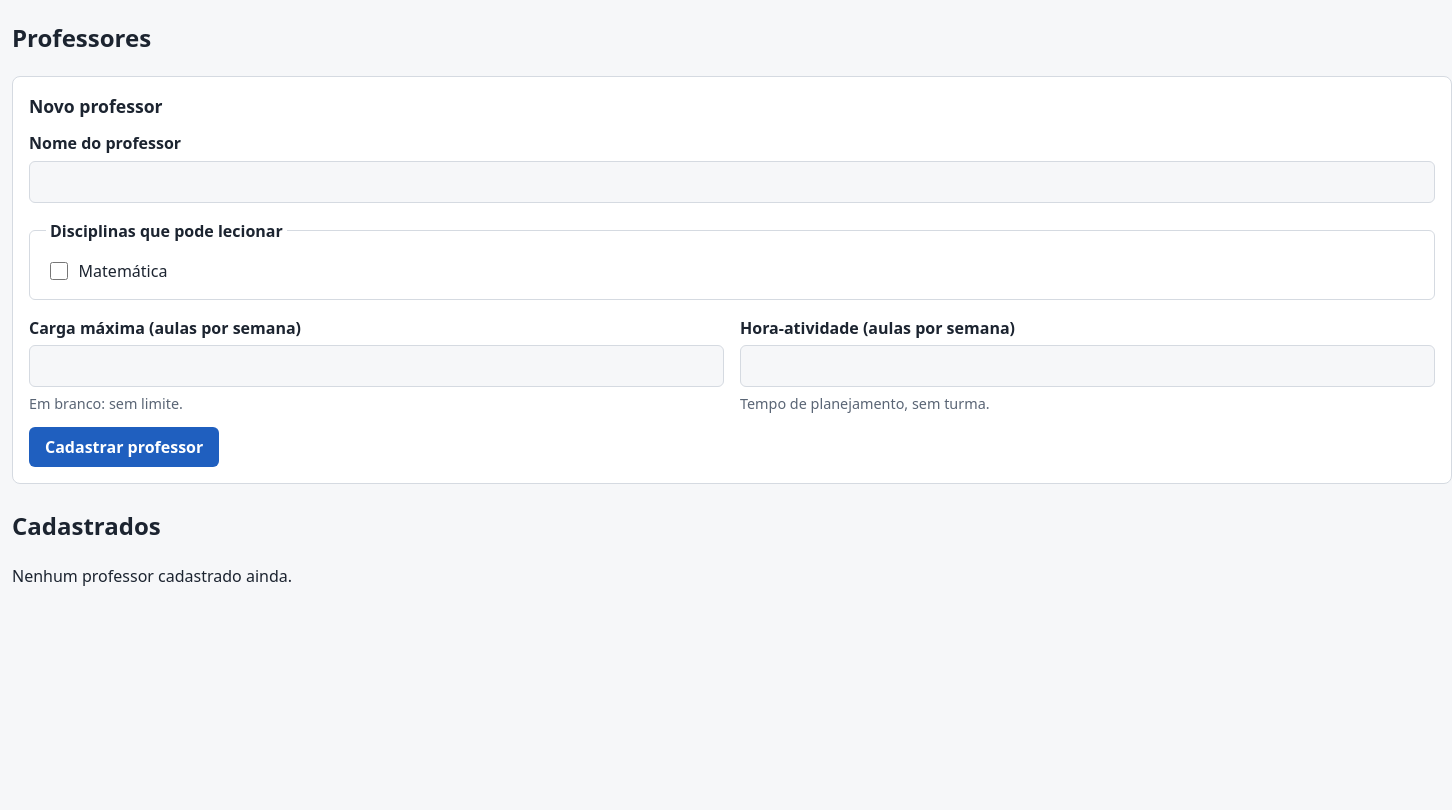
Test case: TeachersPage › mantém o que foi preenchido quando a API recusa
The image size is (1452, 810).
In the field with id "teacher-name": [732, 182] box [29,161,1435,203], type "Ana"
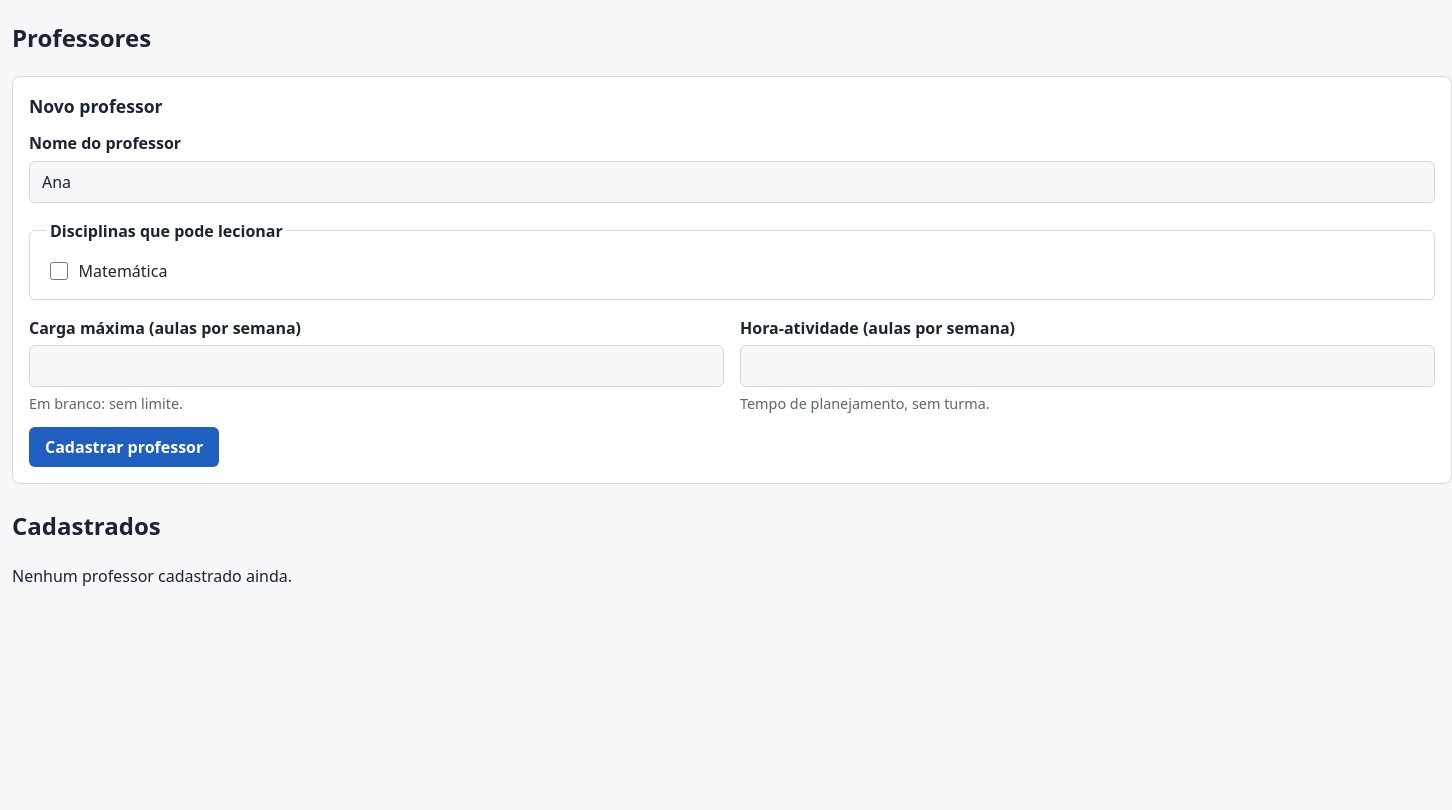
Click the checkbox labelled "Matemática": [59, 271] box [50,262,68,280]
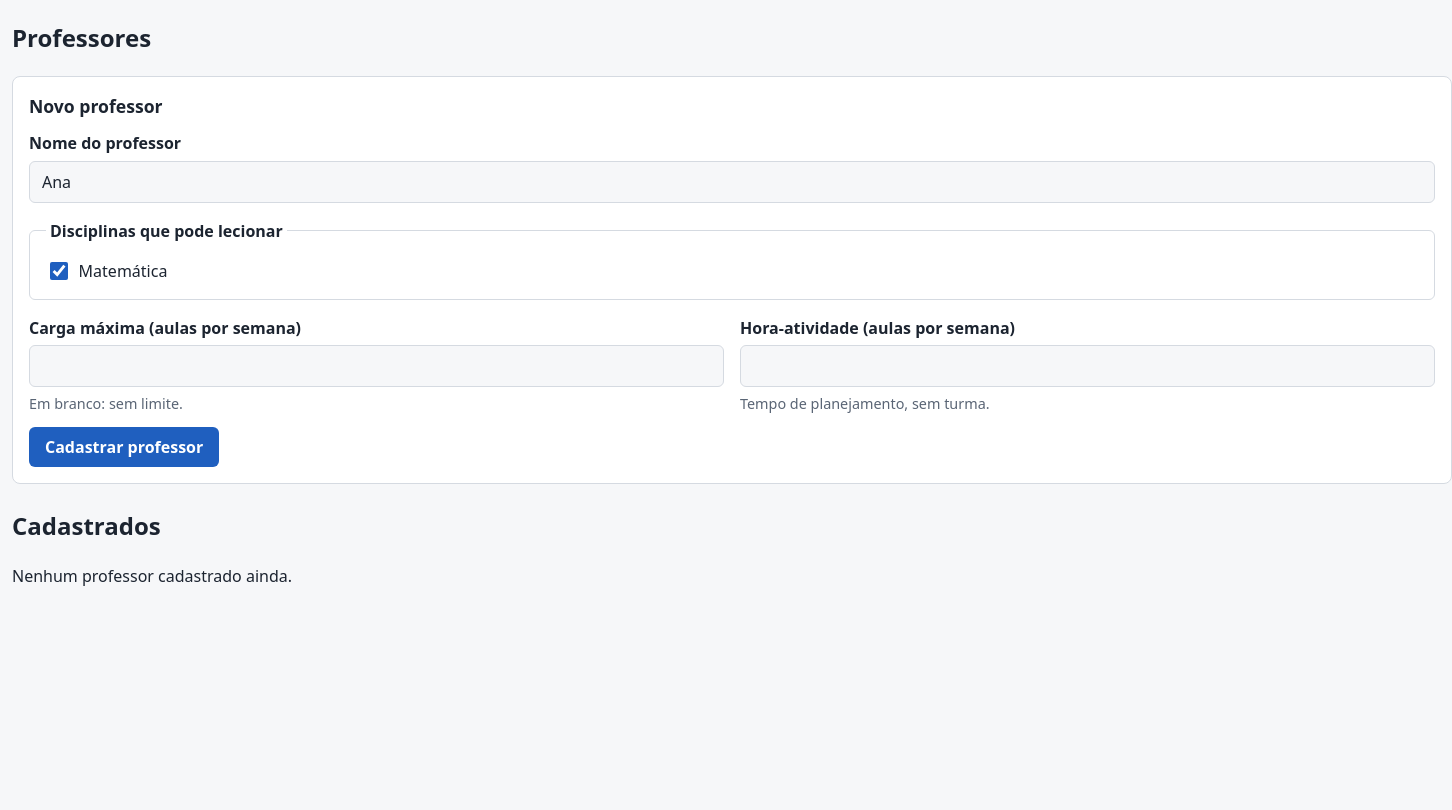
Submit the form, box [12,76,1451,484]
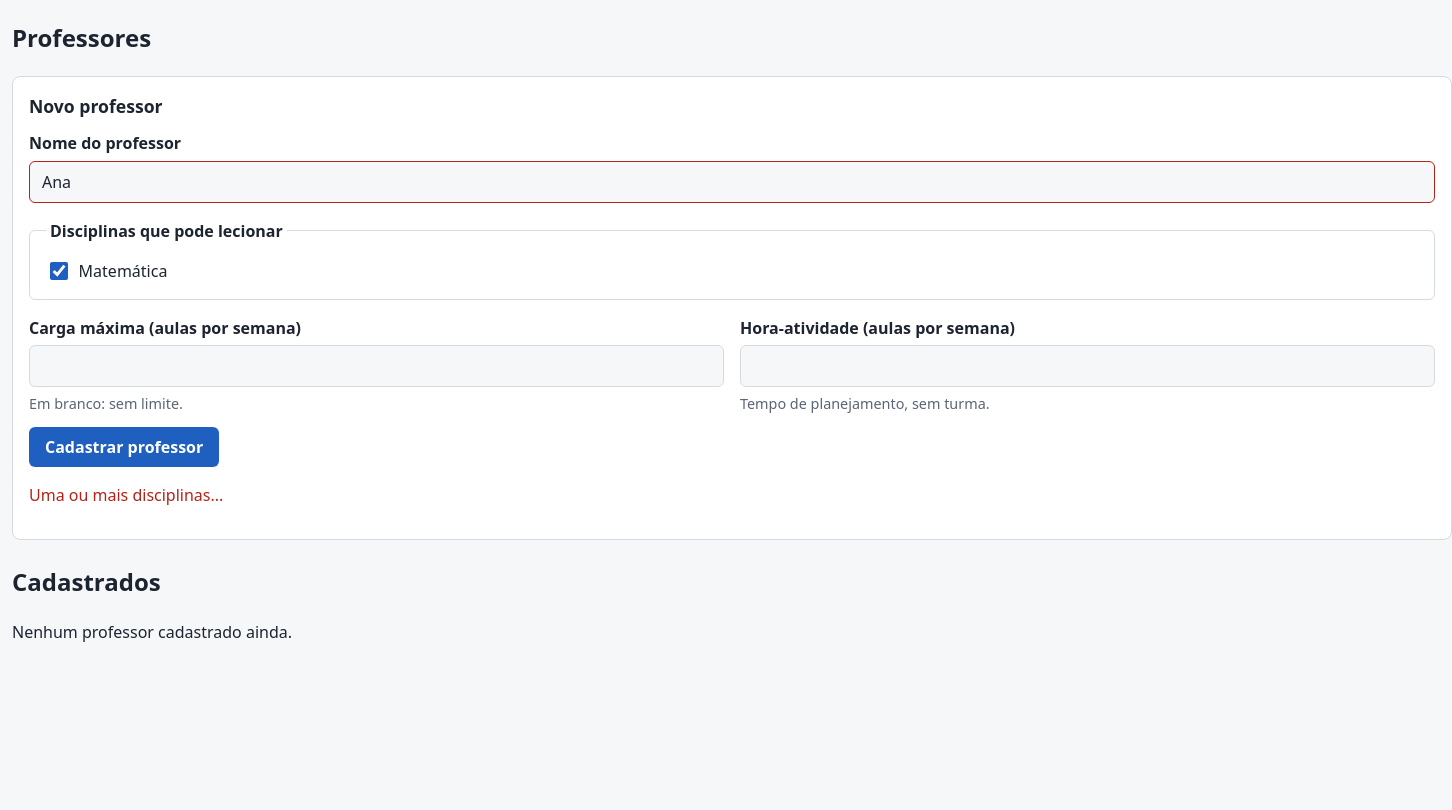
Now the message "Uma ou mais disciplinas..." is shown, box [29,484,223,506]
